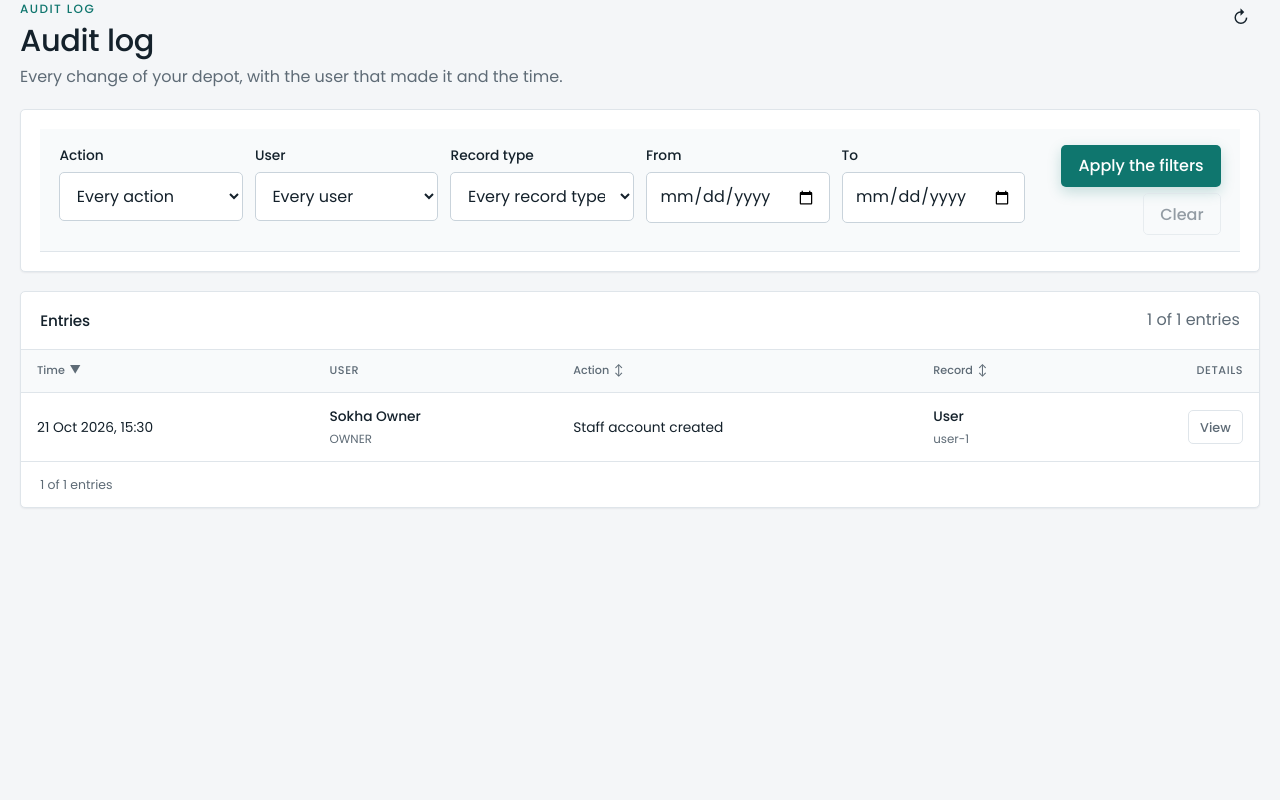
Test: the audit log › shows the details of an entry as keys and values
Click the button "View" at coordinates (1215, 427), box [1188, 410, 1243, 444]
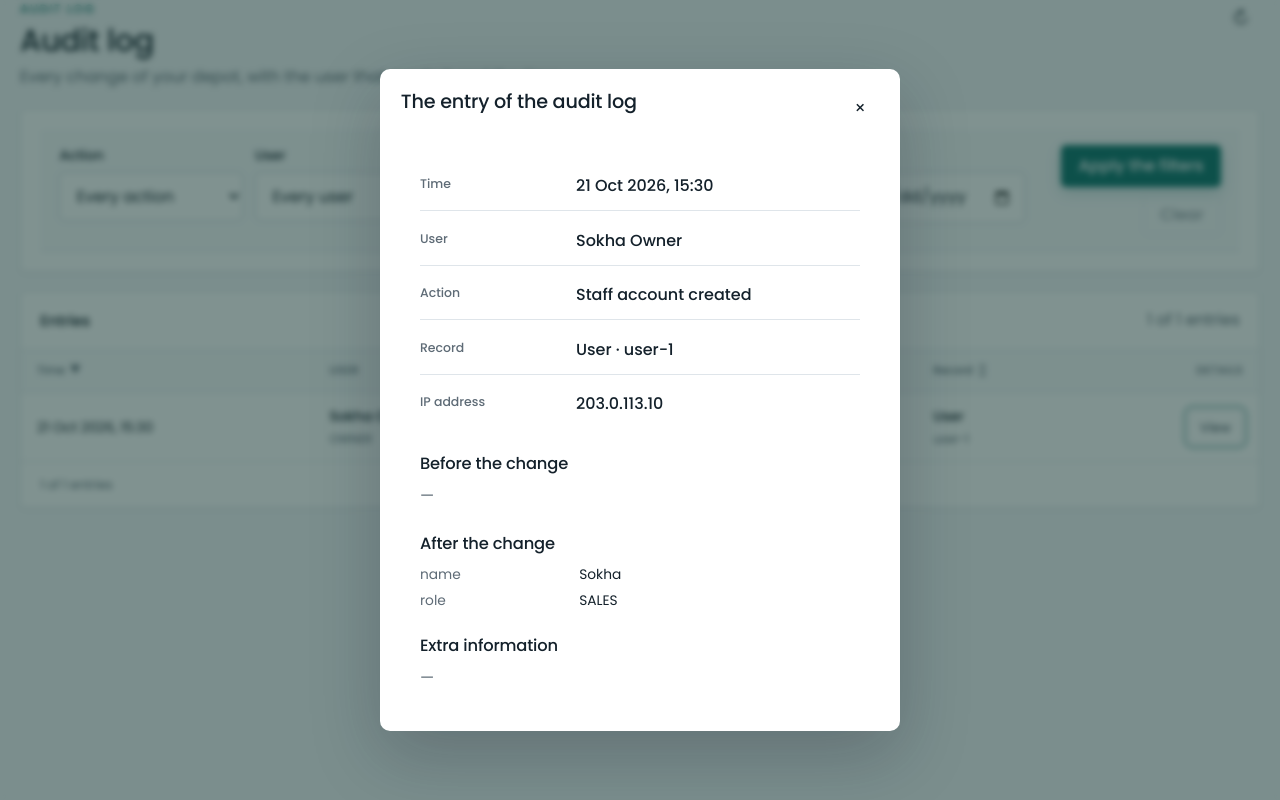
Expected: the heading "After the change" is shown, [420, 532, 555, 555]
Expected: the text "name" is shown, [420, 565, 461, 584]
Expected: the text "Sokha" is shown, [579, 565, 621, 584]
